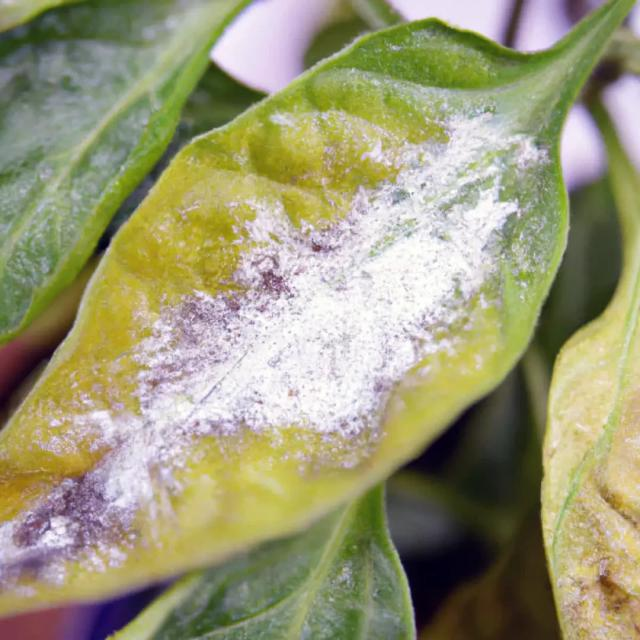Powdery Mildew: (0, 0, 635, 626)
